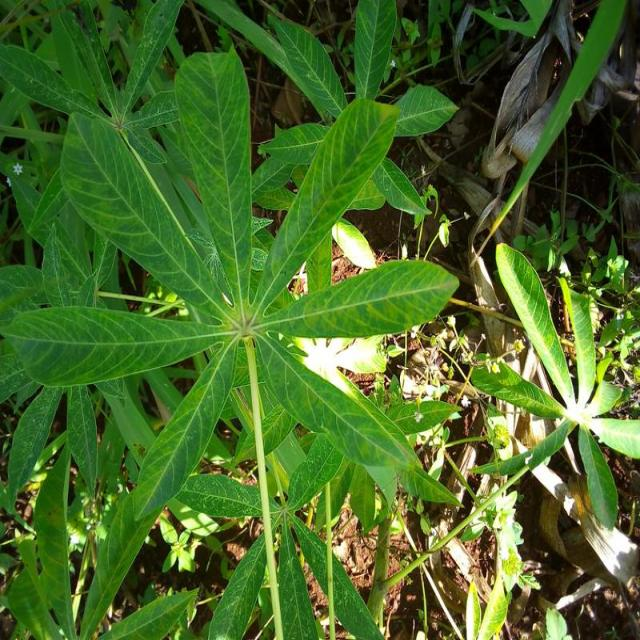cassava leaf: (260, 95, 402, 308), (174, 45, 254, 307)
